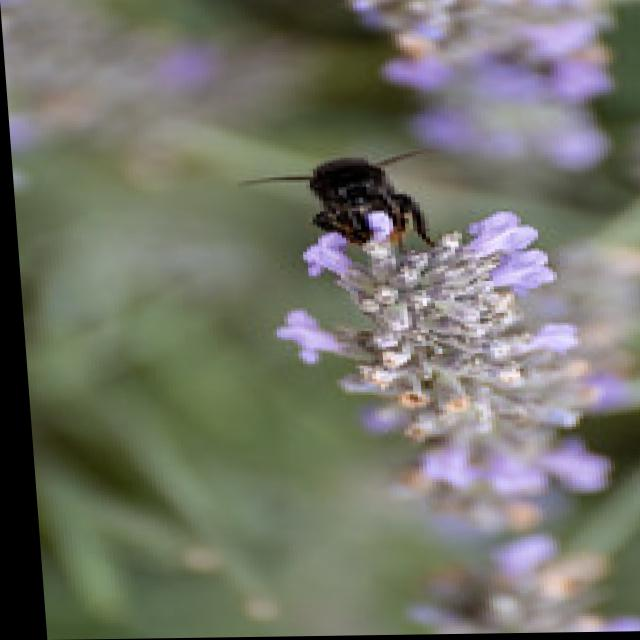Abeille: (227, 140, 482, 264)
